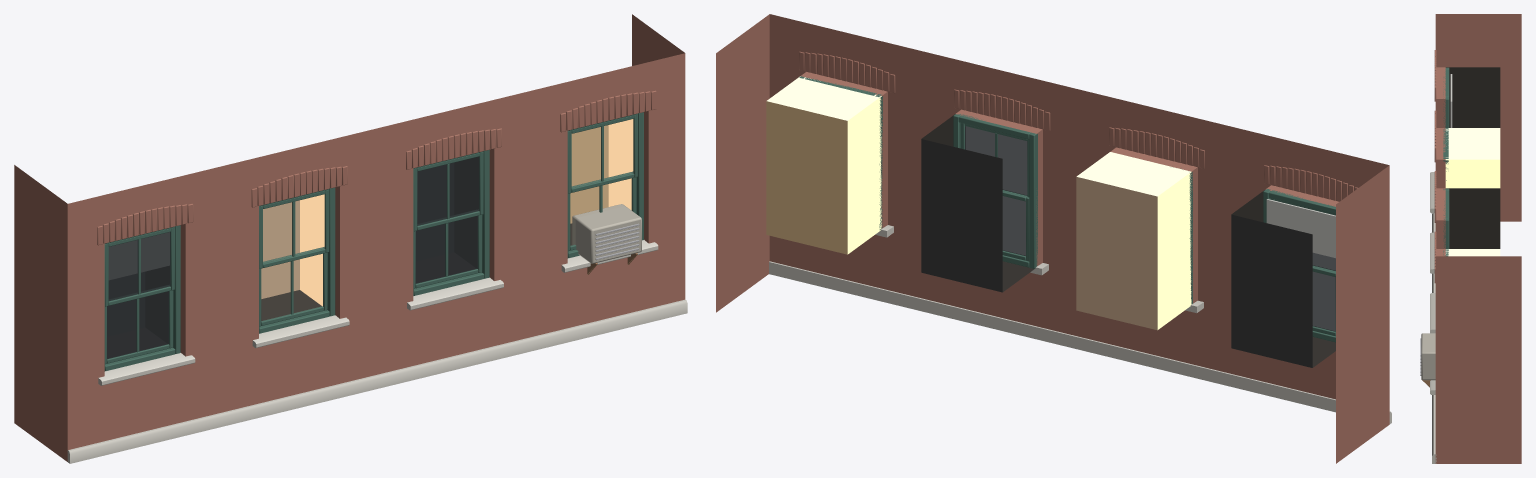
The model's file is upper_8b.glb.
The picture shows the model from 3 angles, left to right: view 1: azimuth 30°, elevation 25°; view 2: azimuth 150°, elevation 25°; view 3: azimuth 270°, elevation 25°; orthographic projection. The views are drawn at different scales.
Parts seen in each view (by area): view 1: upper_8b; view 2: upper_8b; view 3: upper_8b.
Boxes of the visible parts, x1,y1,x2,y2 form: upper_8b: (14, 14, 687, 463); upper_8b: (716, 14, 1391, 463); upper_8b: (1420, 14, 1521, 463).
Bounding box in the file's own units: 8 × 3.2 × 1.42.
